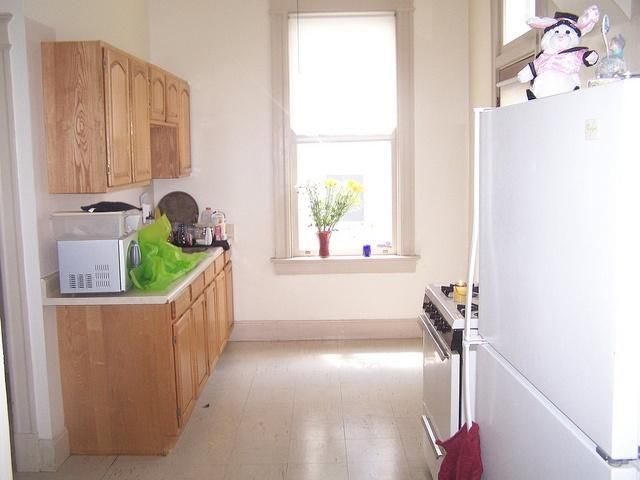Lemari: (38, 39, 191, 194)
